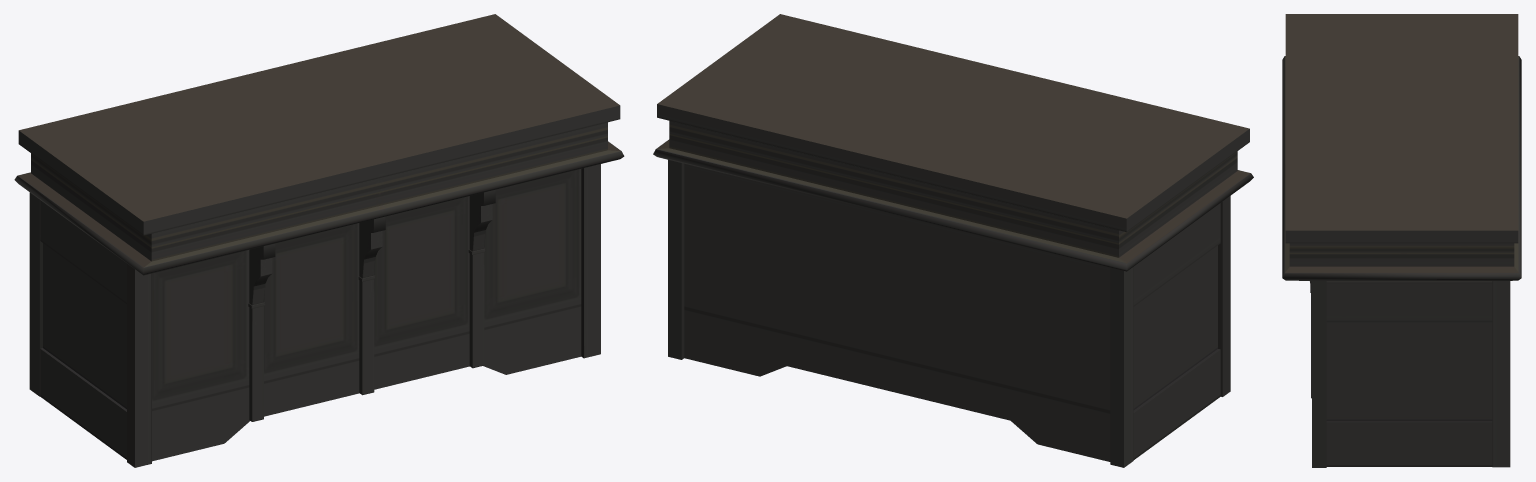
File: counter1.FBX
3 views of the same model, side by side, from view 1: azimuth 30°, elevation 25°; view 2: azimuth 150°, elevation 25°; view 3: azimuth 270°, elevation 25° (orthographic). The views are drawn at different scales.
Parts seen in each view (by area): view 1: 테이블 크기011; view 2: 테이블 크기011; view 3: 테이블 크기011.
Boxes of the visible parts, x1,y1,x2,y2 form: 테이블 크기011: [14, 14, 624, 467]; 테이블 크기011: [653, 14, 1253, 467]; 테이블 크기011: [1282, 14, 1521, 467].
Size of the model in its own units: 76.13 by 35.2 by 38.97.
Materials: 1 (1 with a texture image).
